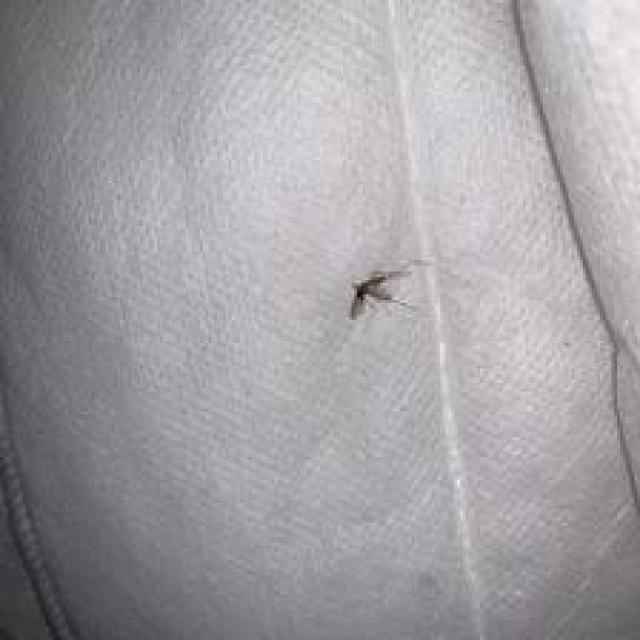Culex: (349, 267, 414, 322)
